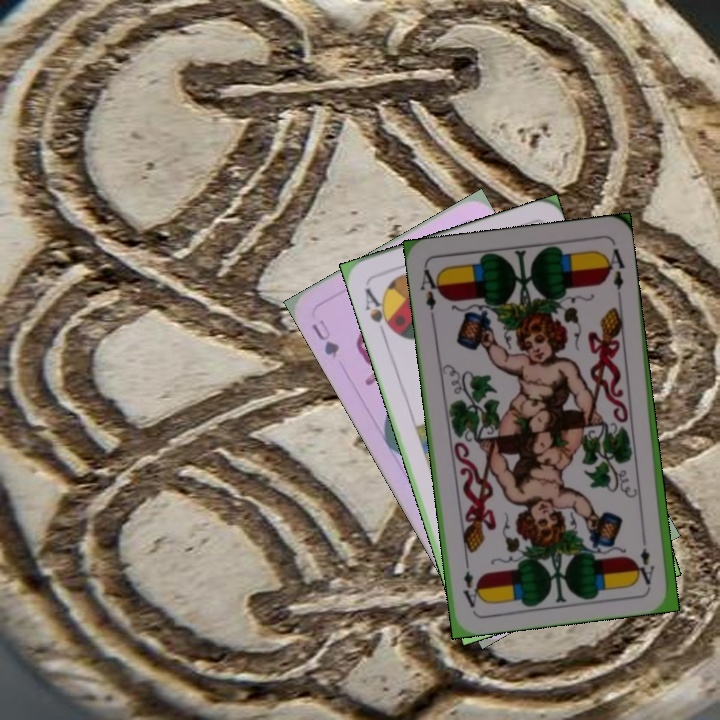EA: (416, 265, 444, 322), (636, 528, 657, 588)
GU: (307, 315, 342, 361)
SA: (361, 284, 397, 339)
